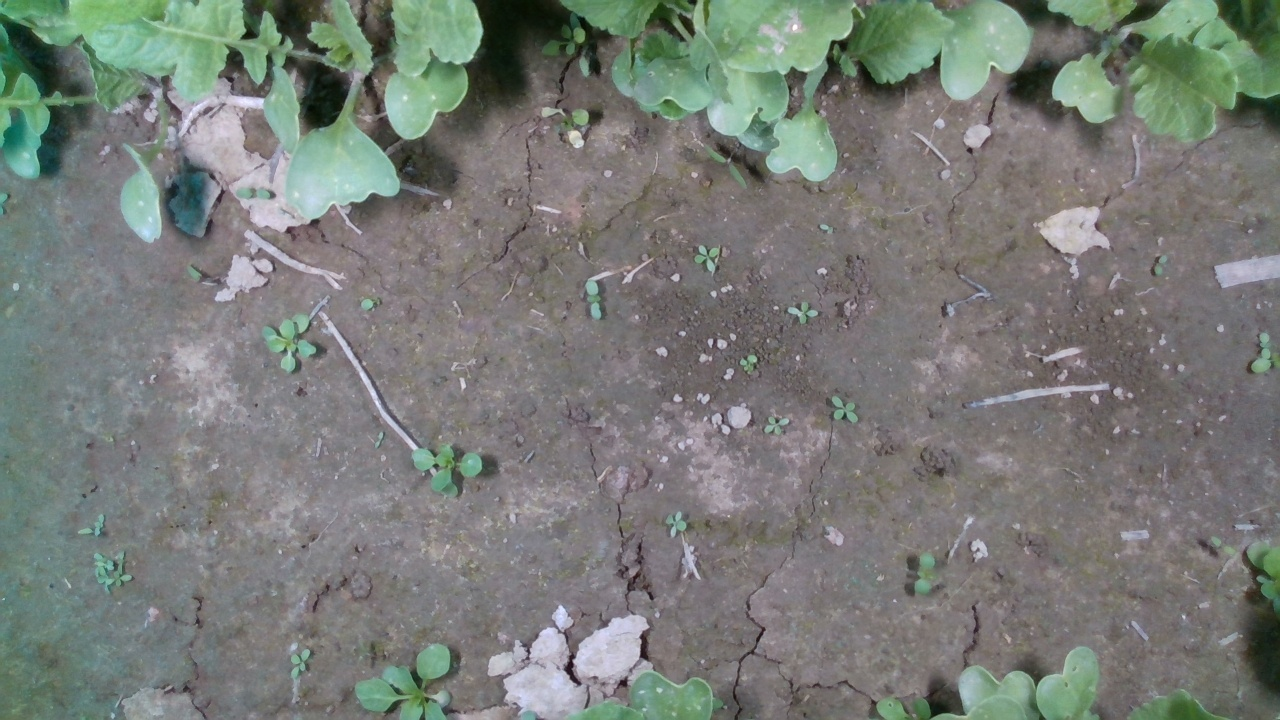weed: (912, 551, 936, 597), (829, 394, 860, 425), (693, 244, 720, 275), (787, 299, 817, 326), (663, 509, 688, 538), (288, 649, 312, 679), (761, 415, 791, 436)
